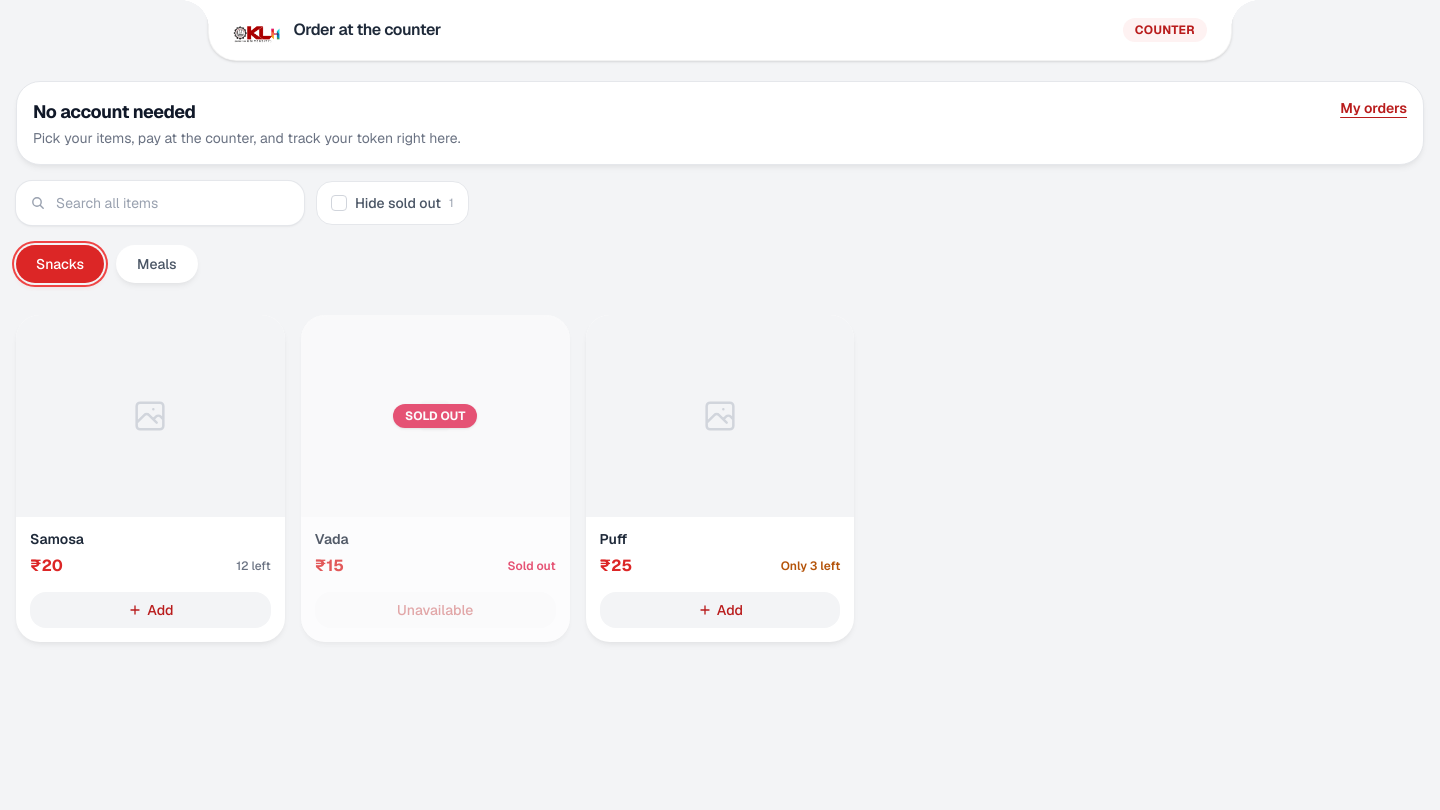
Test case: searches across every category, not just the active tab
Expected: the heading "Samosa" is shown, [30,530,84,548]
Expected: the text "Samosa Thali" is not shown
Type "samosa" into the field named "search the menu". click: x=160, y=203
box: [56,193,264,213]
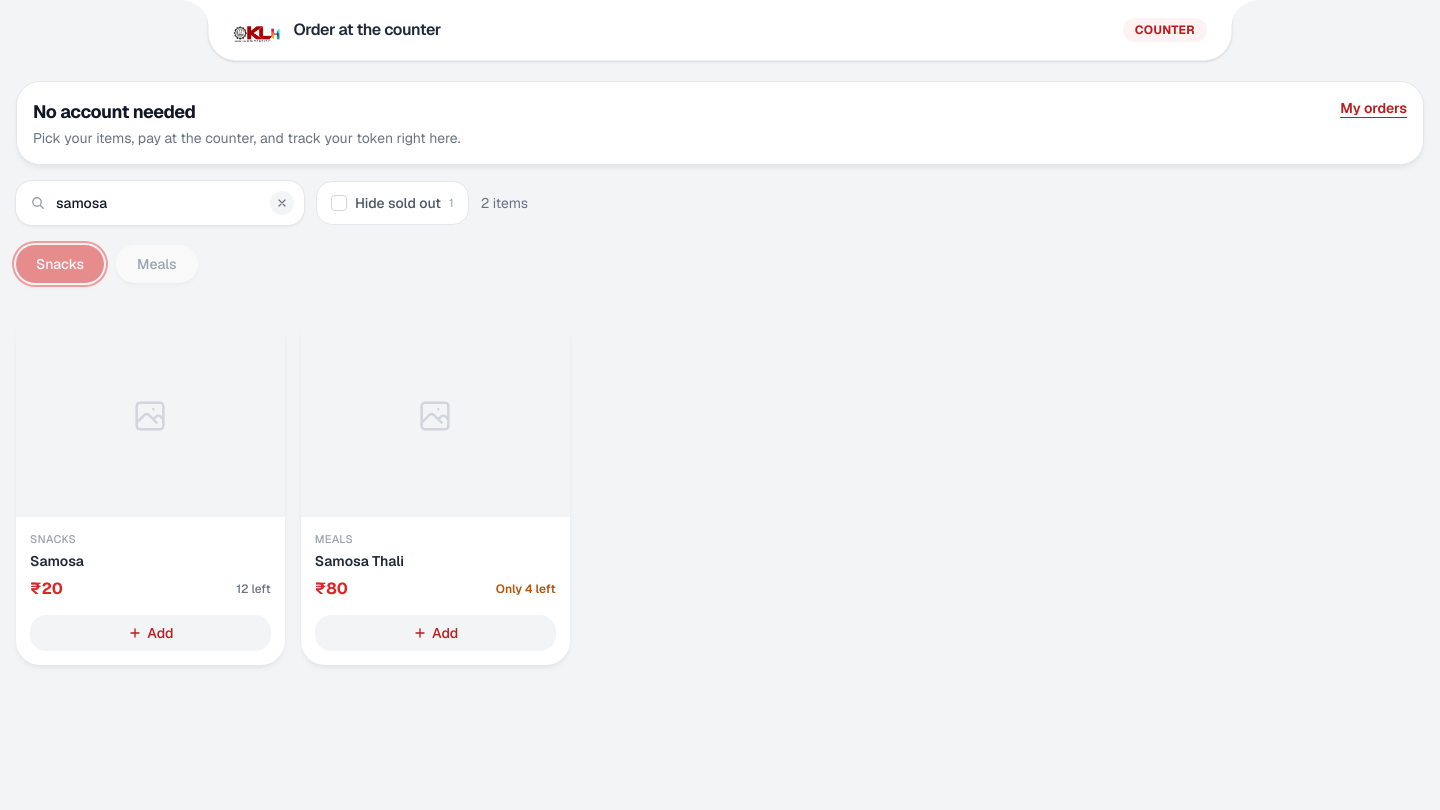
Expected: the number of buttons "Meals" is 2, [116,245,198,283]; [315,532,353,546]
Now the heading "Samosa Thali" is shown, box [315,552,404,570]
Now the heading "Puff" is gone
